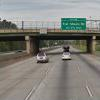Bridge: (2, 14, 100, 49)
